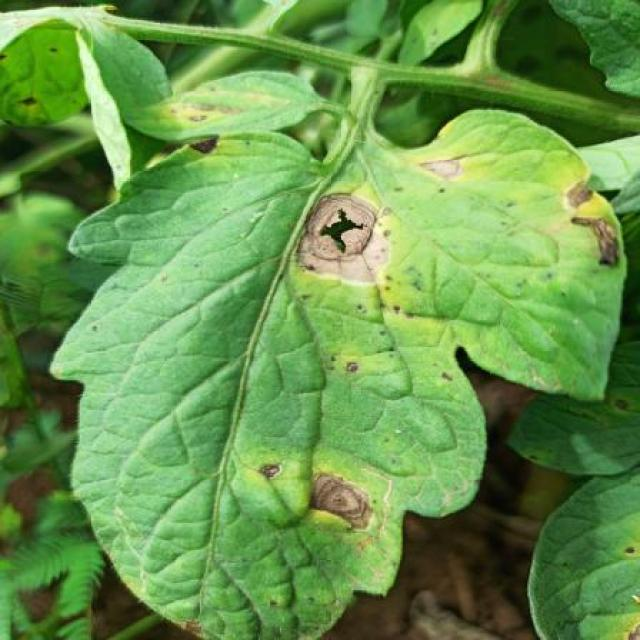Early Blight: (47, 103, 629, 638)
